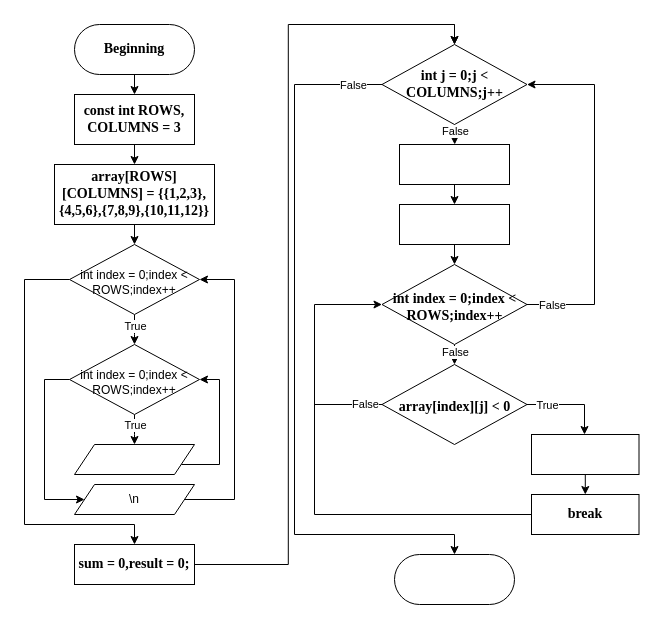
Image size: 657x622. Some labels were removed from this diagram. Here are the shapes that lost their labels. From the top down, the centre of each, then its label:
At (454,164): "found = false".
At (454,224): "sum = 0".
At (134,459): "array[index][j]".
At (584,454): "found = true".
At (454,579): "End".
